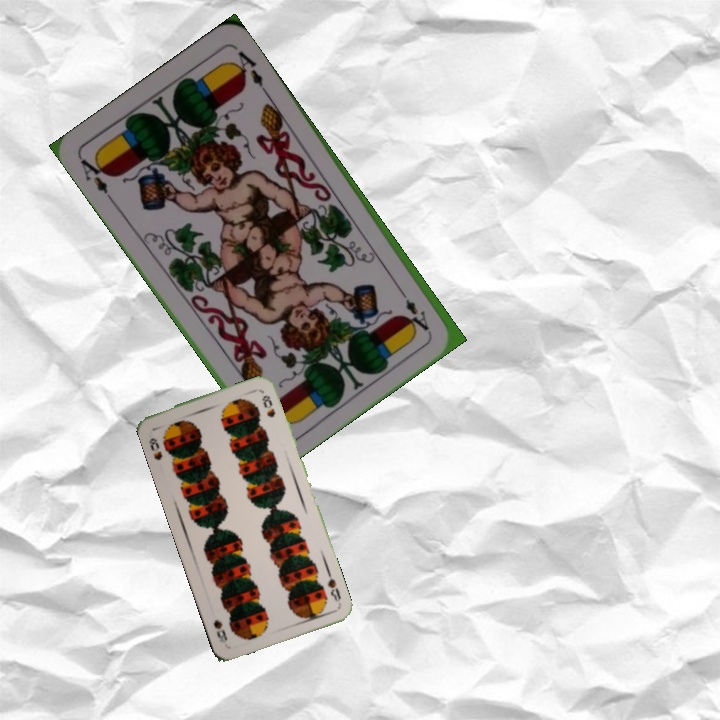EA: (75, 151, 116, 204), (394, 283, 432, 334)
S8: (323, 566, 343, 604), (145, 433, 165, 463)
